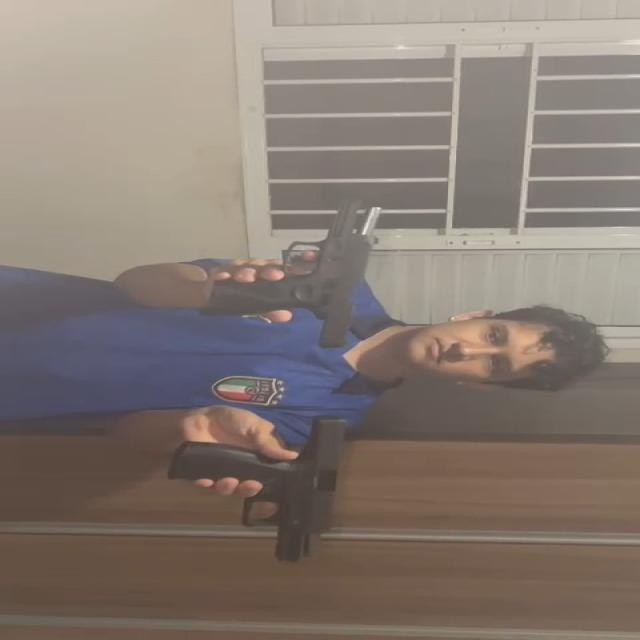gun: (168, 416, 350, 565), (202, 204, 384, 346)
